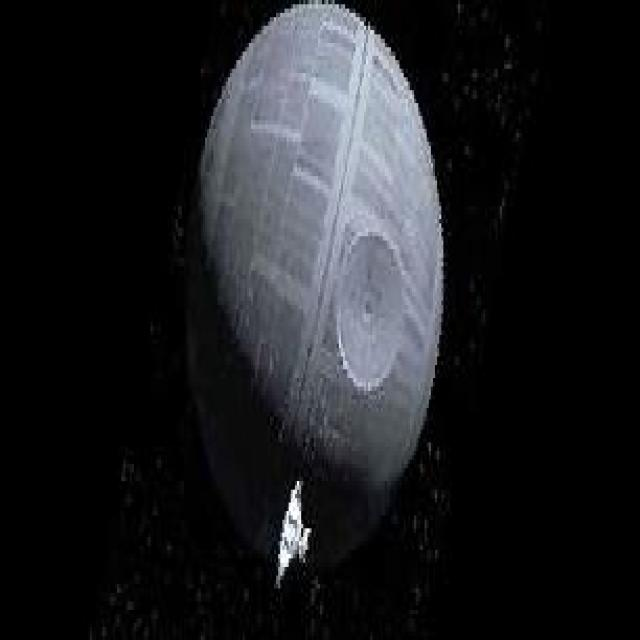Death Star: (182, 2, 445, 568)
